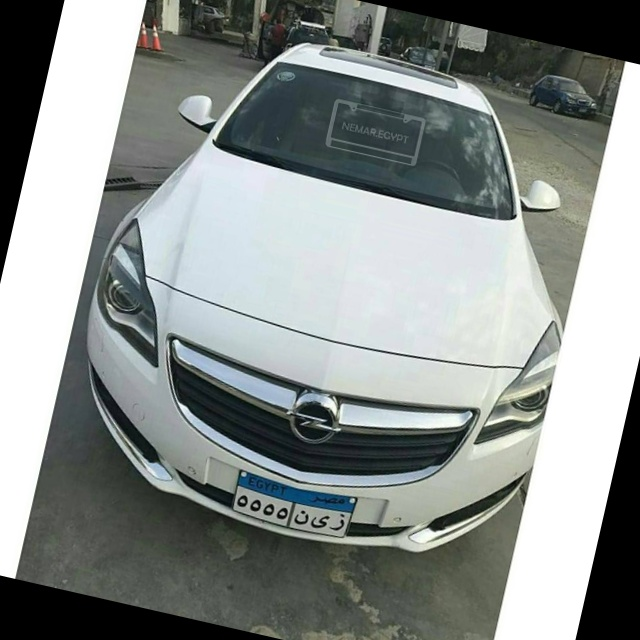License Plate: (227, 466, 361, 544)
